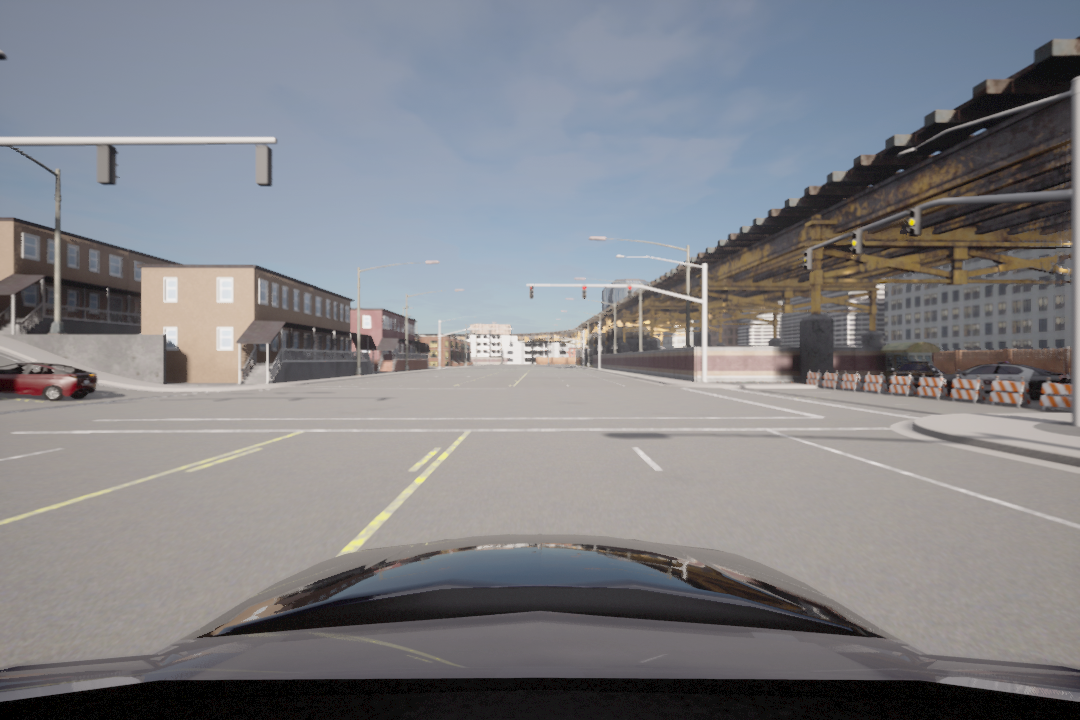RoadSign_forward: (906, 207, 921, 239), (850, 228, 864, 260)
TrafficLight: (798, 248, 812, 274), (528, 282, 537, 300), (624, 281, 633, 298), (581, 285, 589, 300)
